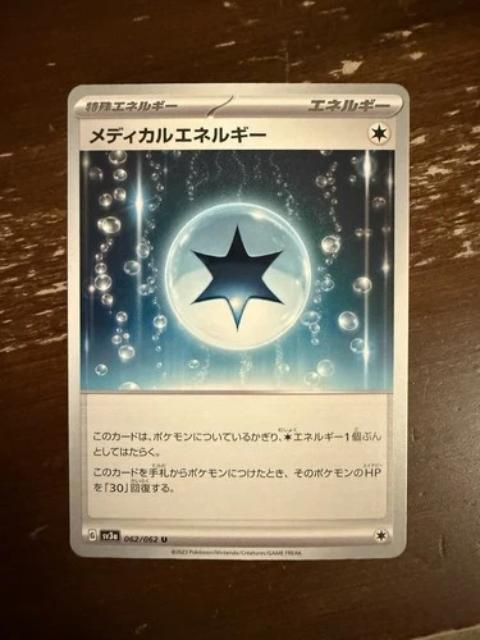Card: (61, 78, 413, 563)
Name: (83, 118, 272, 148)
